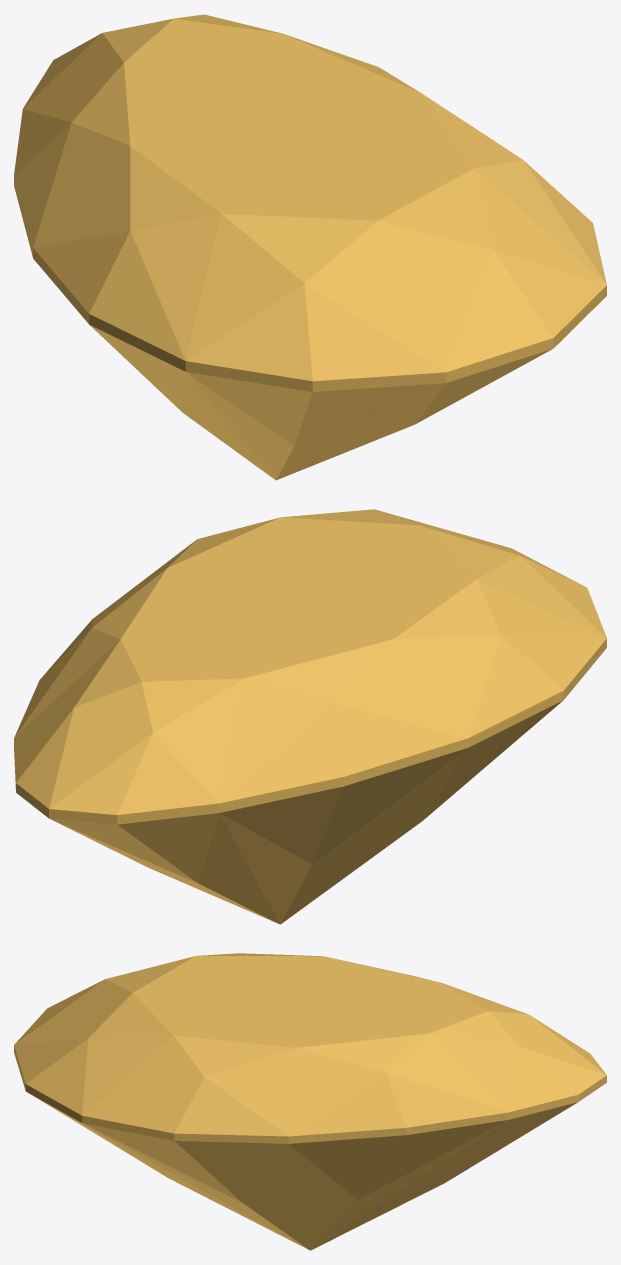
Rendered from stone-citrine.glb.
3 views of the same model, one above another, from view 1: azimuth 30°, elevation 25°; view 2: azimuth 150°, elevation 25°; view 3: azimuth 270°, elevation 25° (orthographic). The views are drawn at different scales.
Parts seen in each view (by area): view 1: Gemstone Citrine; view 2: Gemstone Citrine; view 3: Gemstone Citrine.
Part boxes in pixels (<box>): Gemstone Citrine: <box>14,14,606,480</box>; Gemstone Citrine: <box>14,509,606,924</box>; Gemstone Citrine: <box>14,953,606,1250</box>.
Bounding box in the file's own units: 1.64 × 1.18 × 2.54.
